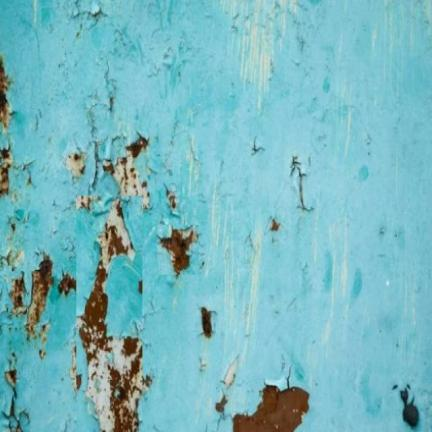karat: (234, 386, 309, 431)
